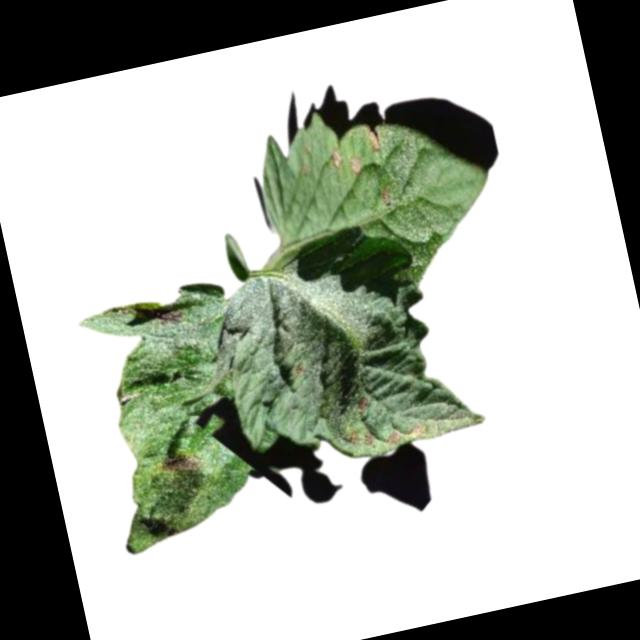Early_blight: (156, 451, 203, 482), (157, 304, 191, 331), (363, 121, 384, 154), (378, 184, 396, 208), (326, 149, 344, 169), (346, 154, 362, 176), (355, 394, 373, 413), (346, 430, 363, 450), (386, 428, 402, 446), (362, 430, 376, 448)
